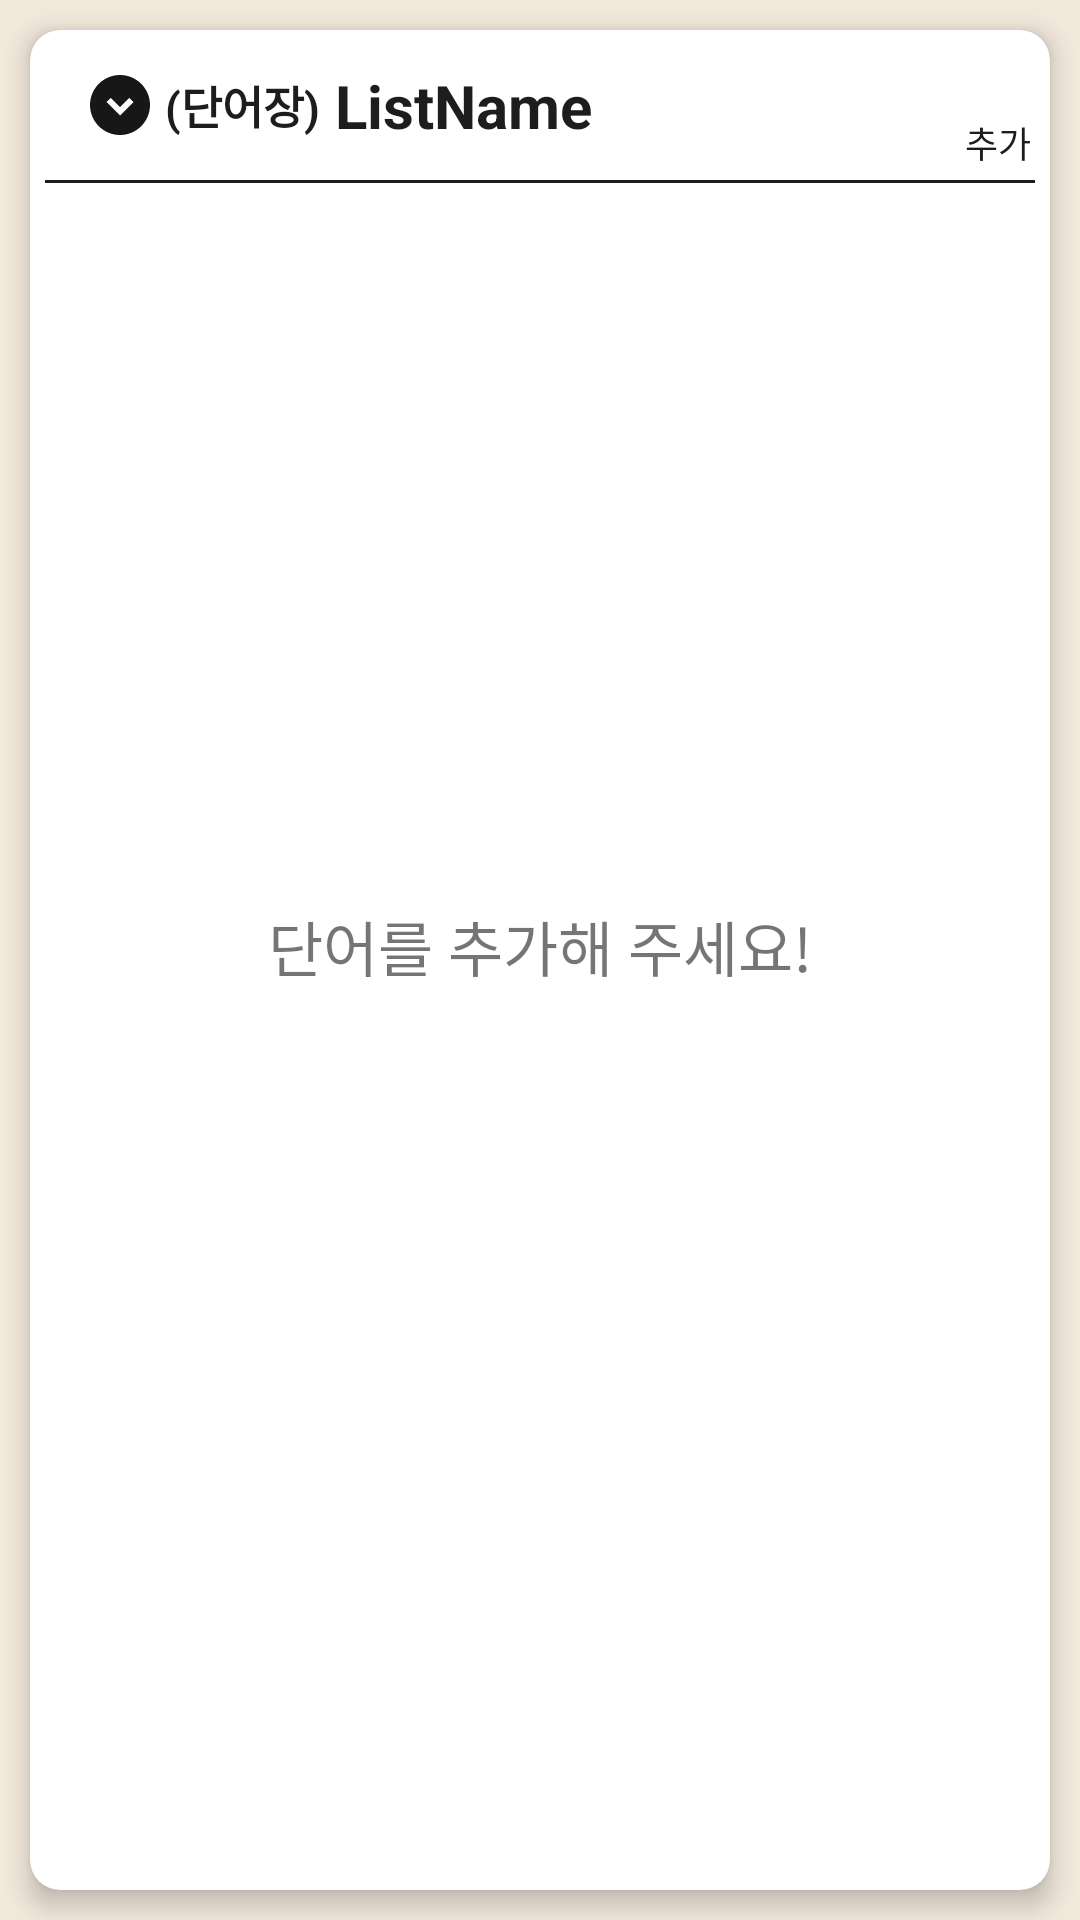

Icon click points for this 1080 × 1920 phone screenshot, format (x,y):
expand circle down: (120,105)
